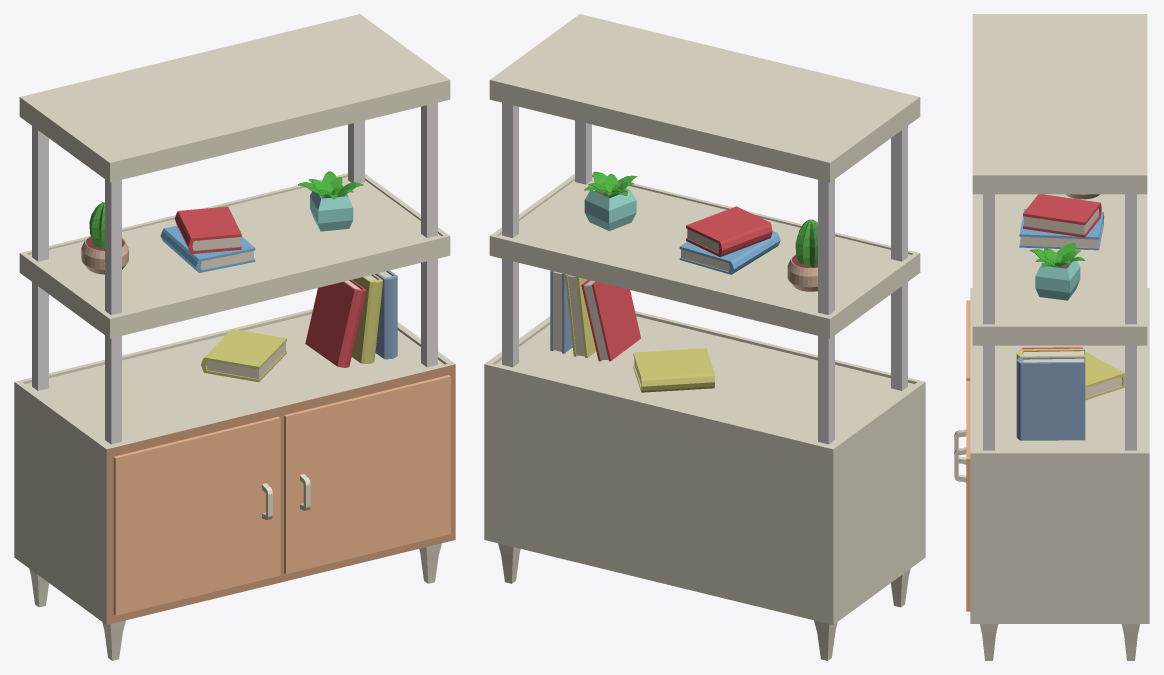
File: wardrobe9.glb
3 views of the same model, side by side, from view 1: azimuth 30°, elevation 25°; view 2: azimuth 150°, elevation 25°; view 3: azimuth 270°, elevation 25° (orthographic). The views are drawn at different scales.
Parts seen in each view (by area): view 1: Cube.006_8, Cube.004_7, Cube.001_6, Cube.011_12, Cube.012_13, Cube.014_17, Cube.009_11, Cube.013_16, Cube.008_10, Cube.015_1, Plane.010_2, Circle_15; view 2: Cube.006_8, Cube.001_6, Cube.011_12, Cube.012_13, Cube.014_17, Cube.013_16, Cube.015_1, Cube.009_11, Cube.008_10, Cylinder_14, Plane.010_2, Circle_15; view 3: Cube.006_8, Cube.008_10, Cube.001_6, Cube.014_17, Cube.004_7, Cube.013_16, Cube.015_1, Cube.012_13, Plane.010_2, Cube.009_11, Cube.007_9.
Boxes of the visible parts, x1,y1,x2,y2 form: Cube.006_8: [14, 14, 455, 660]; Cube.004_7: [113, 375, 450, 615]; Cube.001_6: [32, 102, 437, 444]; Cube.011_12: [305, 279, 366, 367]; Cube.012_13: [201, 329, 286, 382]; Cube.014_17: [175, 206, 241, 254]; Cube.009_11: [351, 274, 383, 363]; Cube.013_16: [160, 226, 255, 272]; Cube.008_10: [375, 270, 397, 359]; Cube.015_1: [310, 185, 353, 231]; Plane.010_2: [298, 171, 363, 199]; Circle_15: [81, 236, 128, 274]; Cube.006_8: [484, 14, 925, 660]; Cube.001_6: [502, 102, 907, 444]; Cube.011_12: [581, 279, 640, 361]; Cube.012_13: [633, 348, 714, 392]; Cube.014_17: [686, 206, 772, 257]; Cube.013_16: [679, 231, 780, 274]; Cube.015_1: [584, 188, 636, 231]; Cube.009_11: [565, 274, 596, 357]; Cube.008_10: [550, 270, 572, 353]; Cylinder_14: [795, 219, 817, 267]; Plane.010_2: [584, 171, 637, 197]; Circle_15: [787, 254, 817, 291]; Cube.006_8: [970, 14, 1149, 660]; Cube.008_10: [1016, 356, 1085, 440]; Cube.001_6: [983, 194, 1136, 450]; Cube.014_17: [1023, 194, 1101, 237]; Cube.004_7: [966, 300, 970, 611]; Cube.013_16: [1019, 209, 1104, 250]; Cube.015_1: [1035, 261, 1080, 300]; Cube.012_13: [1085, 351, 1124, 400]; Plane.010_2: [1029, 243, 1085, 267]; Cube.009_11: [1016, 348, 1085, 361]; Cube.007_9: [954, 429, 966, 482].
Size of the model in its own units: 4.99 by 6.9 by 2.49.
